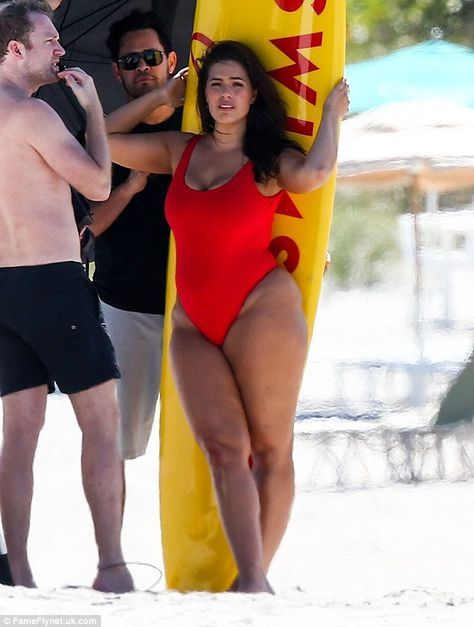Person: (91, 35, 413, 615), (3, 3, 148, 610), (79, 9, 191, 478)
